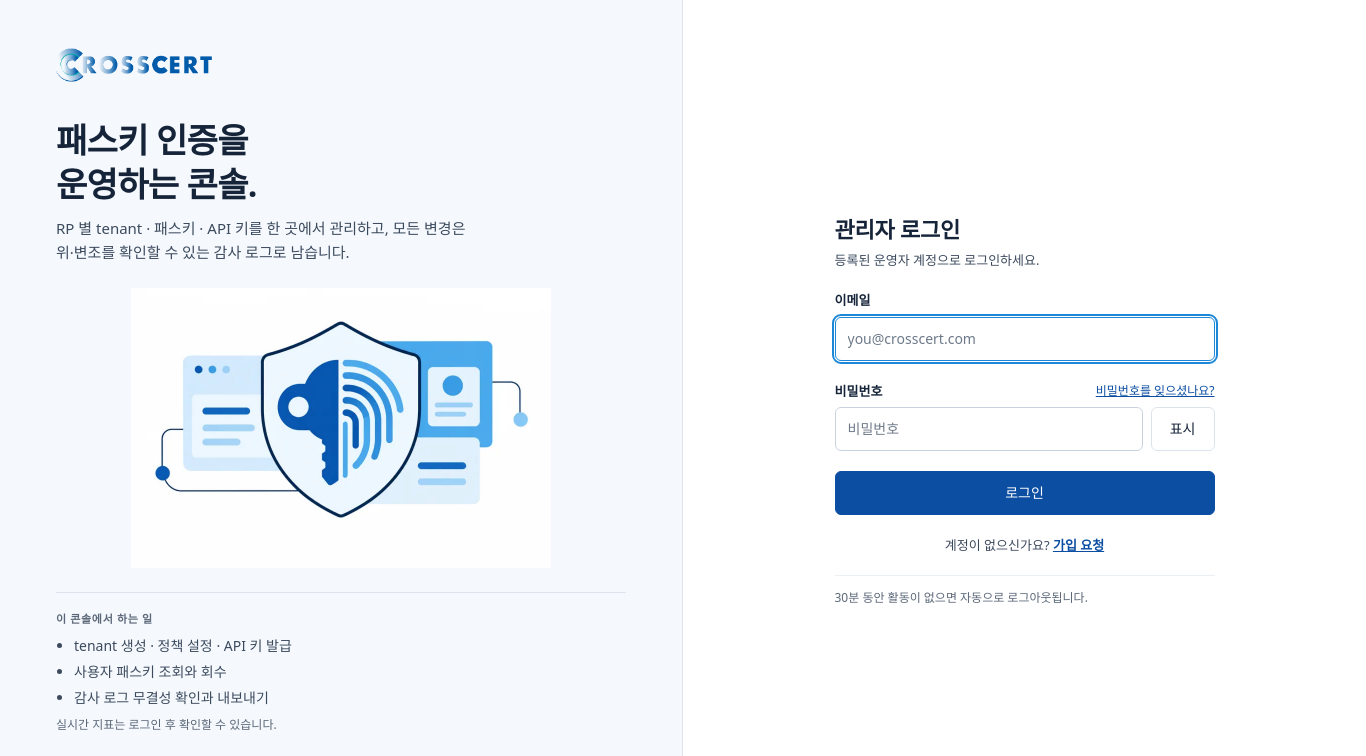
Test case: LoginPage V3 › 로그인 실패: 폼 맨 위 경고 하나만(토스트 없음), 이메일 유지 · 비밀번호만 비우고 포커스
Type "a@x.com" into the field labelled "이메일".
click(1024, 339); type("a@x.com")  # box x1=834 y1=317 x2=1214 y2=361
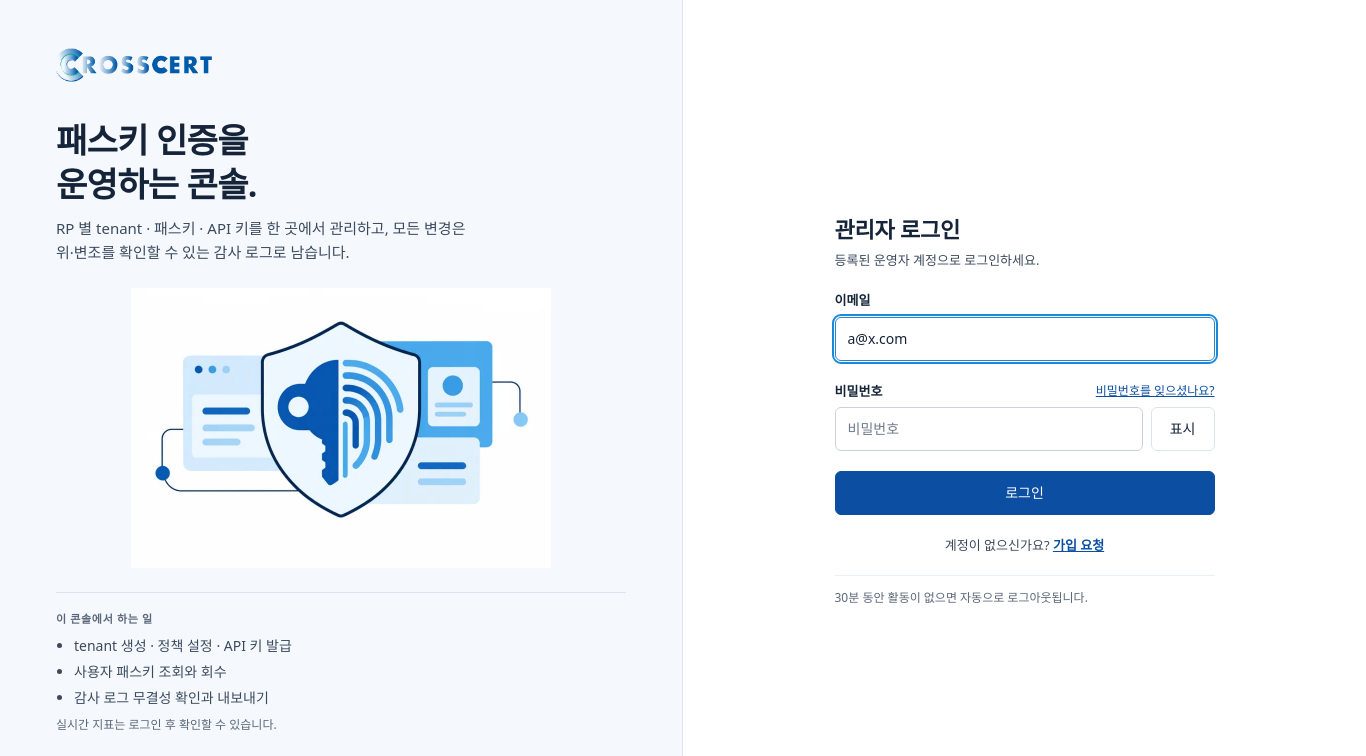
Type "wrong" into the password field labelled "비밀번호".
click(989, 429); type("wrong")  # box x1=834 y1=407 x2=1143 y2=451
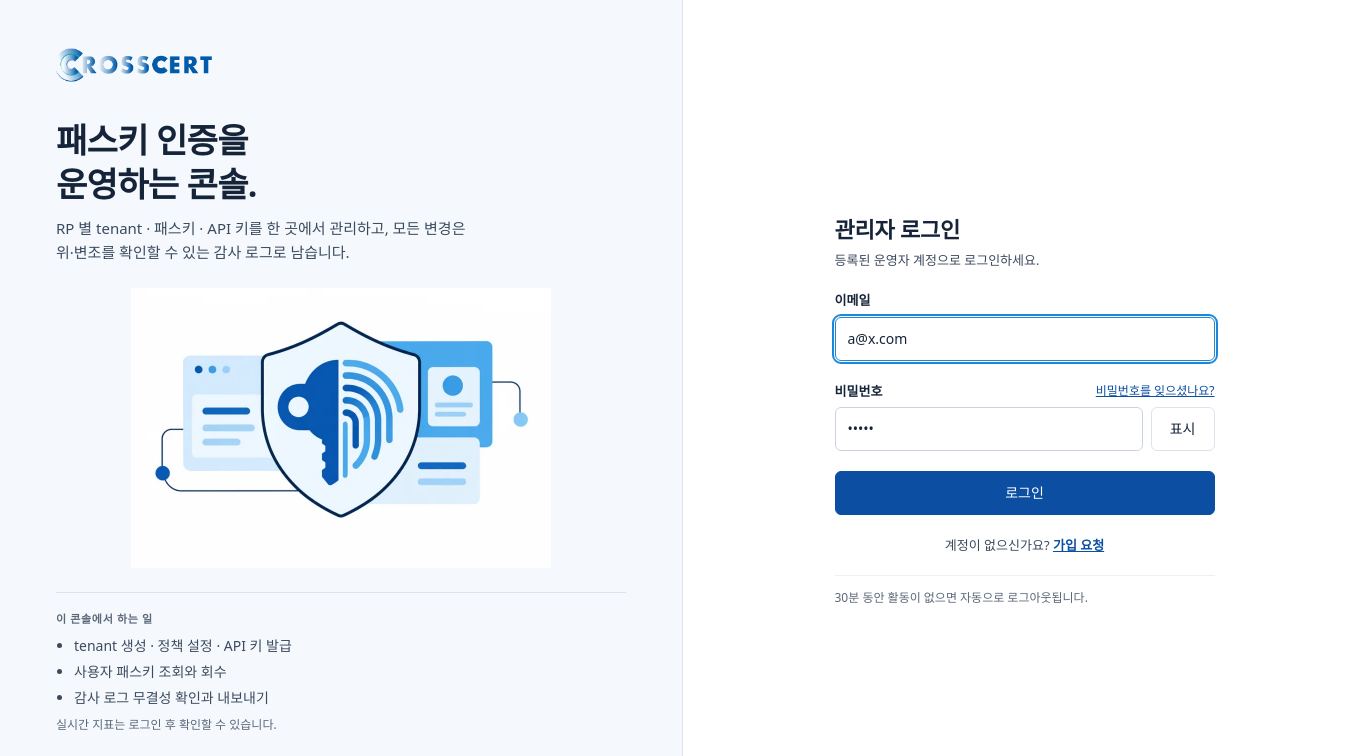
Click the button "로그인".
click(1024, 493)  # box x1=834 y1=471 x2=1214 y2=515
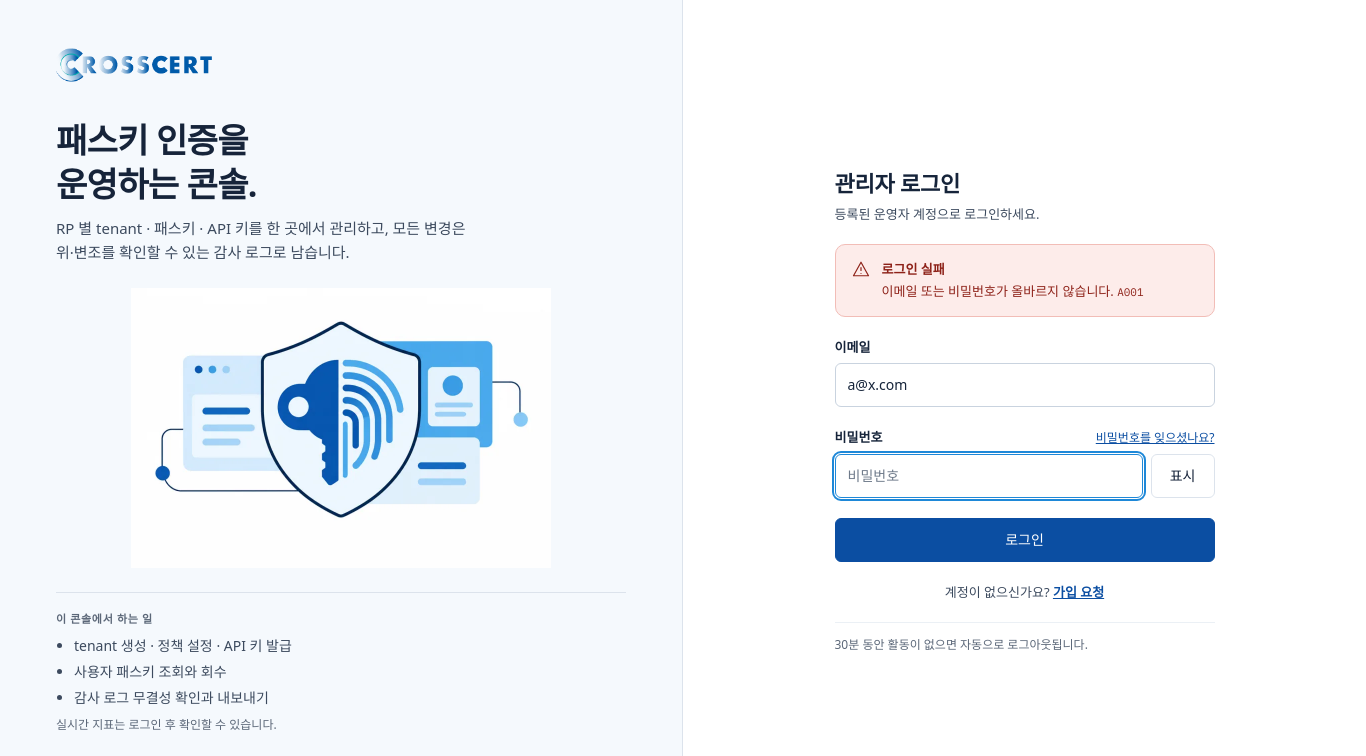
Expected: the message shows "로그인 실패", x1=882 y1=260 x2=945 y2=278
Expected: the message shows "이메일 또는 비밀번호가 올바르지 않습니다.", x1=882 y1=282 x2=1117 y2=300
Expected: the message shows "A001", x1=1117 y1=286 x2=1144 y2=300
